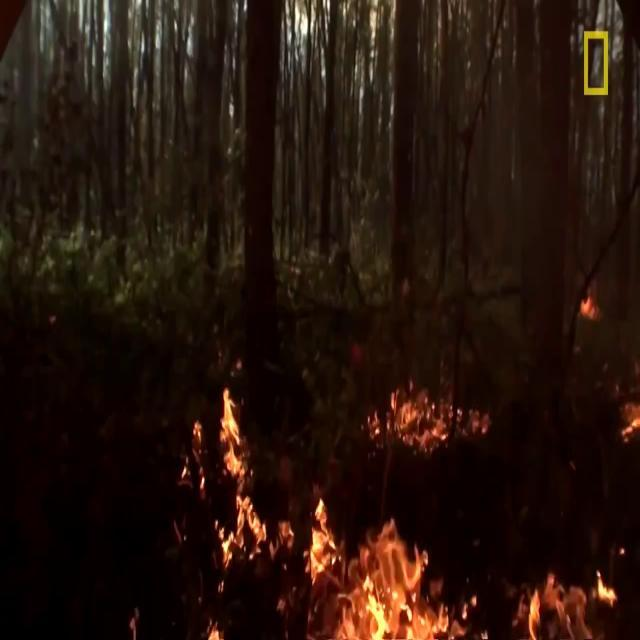Fire: (341, 513, 459, 637), (354, 595, 387, 640)
Smoke: (175, 396, 590, 640)
